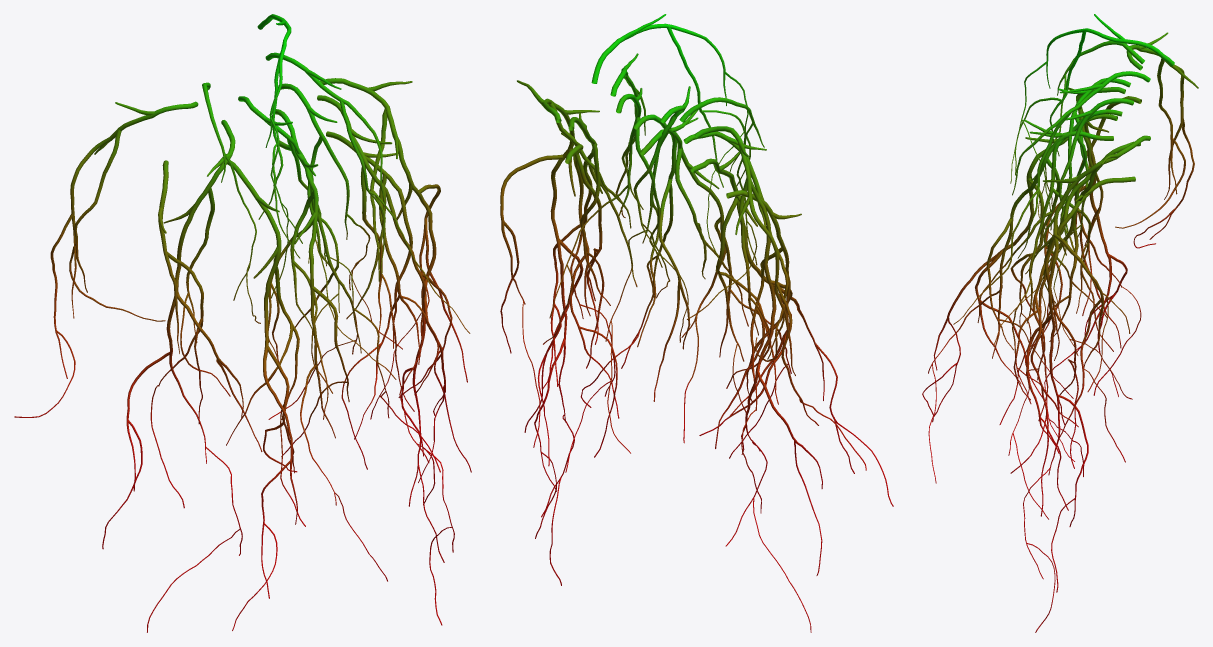
Rendered from DroppingPlantVar13_LOD0.fbx.
3 renders of one model, left to right at view 1: azimuth 30°, elevation 25°; view 2: azimuth 150°, elevation 25°; view 3: azimuth 270°, elevation 25°, orthographic. The views are drawn at different scales.
Visible parts, largest first — view 1: _eets_Var13_LOD0; view 2: _eets_Var13_LOD0; view 3: _eets_Var13_LOD0.
Part boxes in pixels (x1,y1,x2,y2): _eets_Var13_LOD0: (14,14,471,632); _eets_Var13_LOD0: (500,14,893,632); _eets_Var13_LOD0: (922,14,1198,632).
Size of the model in its own units: 116 by 169 by 75.81.
